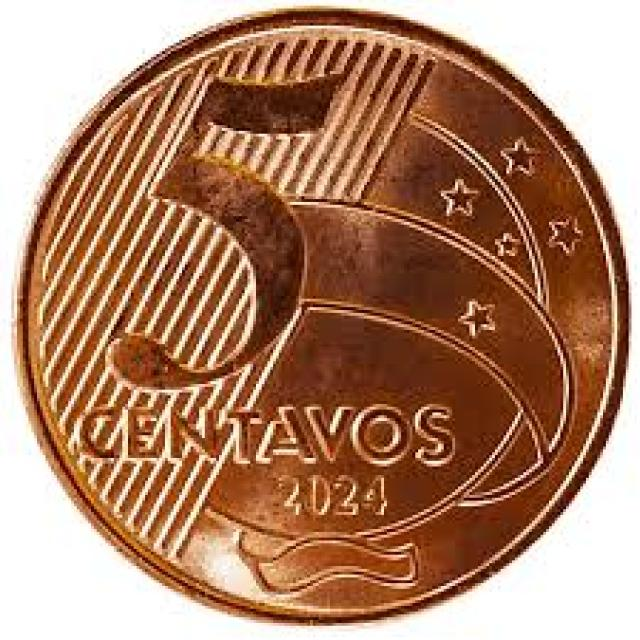5 cent: (15, 4, 629, 626)
